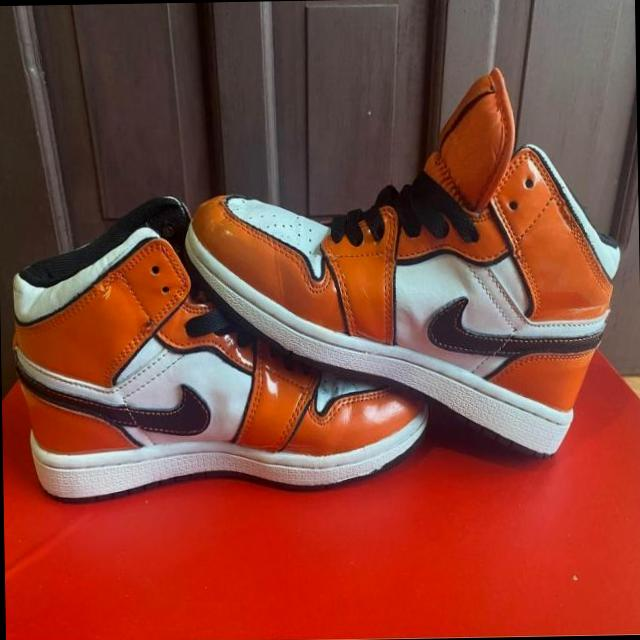nike_fake_jordan: (178, 66, 628, 467), (8, 187, 441, 508)
